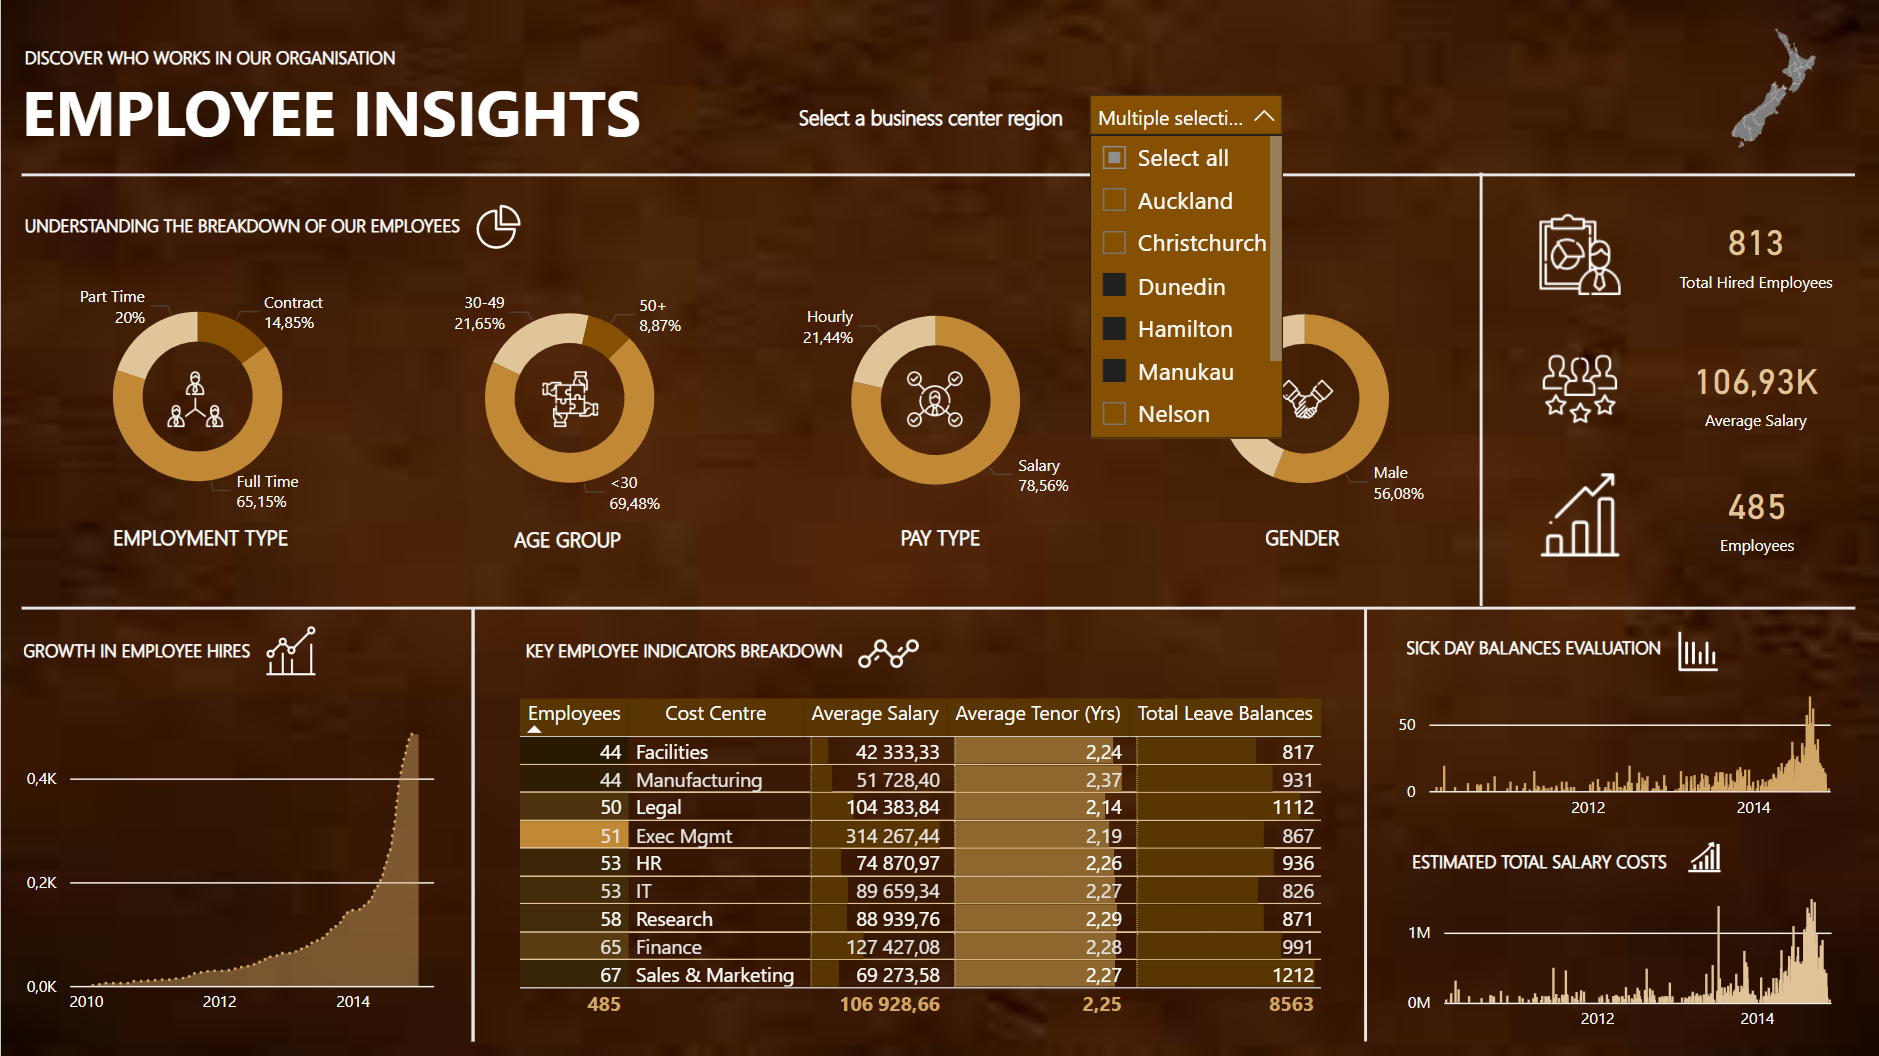

The page's visual inventory and layout, read from the dashboard file:
{"tool":"powerbi","page":{"name":"Dashboard","canvas":[1280,720],"ordinal":0},"visuals":[{"type":"donutChart","fields":{"Y":["Key Measures.Employees"],"Category":["Employee_Data.Gender"]},"box":[784,184,208,176],"z":0},{"type":"donutChart","fields":{"Y":["Key Measures.Employees"],"Category":["Employee_Data.PayType"]},"box":[532.8,184.8,208,176],"z":1000},{"type":"donutChart","fields":{"Y":["Key Measures.Employees"],"Category":["Employee_Data.AgeGroup"]},"box":[284.9,182.4,203.8,179.2],"z":2000},{"type":"donutChart","fields":{"Y":["Key Measures.Employees"],"Series":["Employee_Data.Work Type"]},"box":[31.5,180.8,203.8,179.2],"z":3000},{"type":"textbox","box":[9.1,41.4,446.5,70.7],"z":4000},{"type":"slicer","fields":{"Values":["Employee_Data.Business Unit"]},"box":[732.1,55.3,151.1,48.4],"z":5000},{"type":"card","fields":{"Values":["Key Measures.Total Hired Employees"]},"box":[1135.5,133.6,120,76.4],"z":6000},{"type":"card","fields":{"Values":["Key Measures.Average Salary"]},"box":[1125.5,226.4,140,79.1],"z":7000},{"type":"card","fields":{"Values":["Key Measures.Employees"]},"box":[1140.9,318.2,109.1,67.3],"z":8000},{"type":"textbox","box":[11.6,24.2,305.3,33.2],"z":9000},{"type":"textbox","box":[538.9,65.8,202.1,37.9],"z":10000},{"type":"areaChart","fields":{"Category":["Dates.Date"],"Y":["Key Measures.Employees"]},"box":[12.1,481.3,289,218.7],"z":11000},{"type":"tableEx","fields":{"Values":["Key Measures.Employees","Employee_Data.Cost Centre","Key Measures.Average Salary","Key Measures.Average Tenor (Yrs)","Key Measures.Total Leave Balances"]},"box":[347.4,471.1,572.2,229.9],"z":12000},{"type":"columnChart","fields":{"Category":["Dates.Date"],"Y":["Key Measures.Total Sick Days"]},"box":[946.4,452.7,316.4,114.5],"z":13000},{"type":"columnChart","fields":{"Category":["Dates.Date"],"Y":["Key Measures.Total Salary Cost"]},"box":[952.7,598.2,310.9,113.6],"z":14000},{"type":"textbox","box":[11.3,139.2,351.5,33],"z":15000},{"type":"textbox","box":[72,352,144,32],"z":16000},{"type":"textbox","box":[344,352,111.6,32.2],"z":17000},{"type":"textbox","box":[608,352,80,32],"z":18000},{"type":"textbox","box":[856,352,72,32],"z":19000},{"type":"image","box":[163.7,422,68.1,44],"z":20000},{"type":"basicShape","box":[4.1,405.2,1269.1,18.6],"z":21000},{"type":"image","box":[1142.9,8.8,119.8,96.7],"z":22000},{"type":"image","box":[308.8,135.2,60.4,40.7],"z":23000},{"type":"image","box":[96,248,72,48],"z":24000},{"type":"image","box":[352,248,72,48],"z":25000},{"type":"image","box":[600,248,72,48],"z":26000},{"type":"image","box":[856,248,64,48],"z":27000},{"type":"basicShape","box":[4.4,110,1268.9,18.9],"z":28000},{"type":"basicShape","box":[987.2,108.8,42.4,315.2],"z":29000},{"type":"image","box":[1030.3,140.7,90.9,65.5],"z":30000},{"type":"image","box":[1032.1,318,87.3,67.3],"z":31000},{"type":"image","box":[1042.1,235.2,66.4,60.9],"z":32000},{"type":"textbox","box":[9.8,428.5,208.1,35.8],"z":33000},{"type":"textbox","box":[352,428.5,295.9,35.8],"z":34000},{"type":"image","box":[560.4,419.8,89,51.6],"z":35000},{"type":"basicShape","box":[304.9,404.9,34.1,315.4],"z":36000},{"type":"basicShape","box":[304.9,404.6,34.1,315.4],"z":37000},{"type":"basicShape","box":[912.2,404.9,34.1,315.4],"z":38000},{"type":"textbox","box":[956.2,571.9,239.1,35.9],"z":39000},{"type":"image","box":[1128,568,64,32],"z":40000},{"type":"textbox","box":[952.8,426,242.3,36.6],"z":41000},{"type":"image","box":[1120,424,72,40],"z":42000}]}

Visuals, with their boxes in screenshot pixels (x1, y1, x2, y2), scaled from the page's 1280x720 canvas onto the 1879x1056 screenshot:
donutChart - Key Measures.Employees x Employee_Data.Gender: [x1=1151, y1=270, x2=1456, y2=528]
donutChart - Key Measures.Employees x Employee_Data.PayType: [x1=782, y1=271, x2=1087, y2=529]
donutChart - Key Measures.Employees x Employee_Data.AgeGroup: [x1=418, y1=268, x2=717, y2=530]
donutChart - Key Measures.Employees x Employee_Data.Work Type: [x1=46, y1=265, x2=345, y2=528]
textbox: [x1=13, y1=61, x2=669, y2=164]
slicer - Employee_Data.Business Unit: [x1=1075, y1=81, x2=1297, y2=152]
card - Key Measures.Total Hired Employees: [x1=1667, y1=196, x2=1843, y2=308]
card - Key Measures.Average Salary: [x1=1652, y1=332, x2=1858, y2=448]
card - Key Measures.Employees: [x1=1675, y1=467, x2=1835, y2=565]
textbox: [x1=17, y1=35, x2=465, y2=84]
textbox: [x1=791, y1=97, x2=1088, y2=152]
areaChart - Dates.Date x Key Measures.Employees: [x1=18, y1=706, x2=442, y2=1027]
tableEx - Key Measures.Employees x Employee_Data.Cost Centre: [x1=510, y1=691, x2=1350, y2=1028]
columnChart - Dates.Date x Key Measures.Total Sick Days: [x1=1389, y1=664, x2=1854, y2=832]
columnChart - Dates.Date x Key Measures.Total Salary Cost: [x1=1399, y1=877, x2=1855, y2=1044]
textbox: [x1=17, y1=204, x2=533, y2=253]
textbox: [x1=106, y1=516, x2=317, y2=563]
textbox: [x1=505, y1=516, x2=669, y2=563]
textbox: [x1=893, y1=516, x2=1010, y2=563]
textbox: [x1=1257, y1=516, x2=1362, y2=563]
image: [x1=240, y1=619, x2=340, y2=683]
basicShape: [x1=6, y1=594, x2=1869, y2=622]
image: [x1=1678, y1=13, x2=1854, y2=155]
image: [x1=453, y1=198, x2=542, y2=258]
image: [x1=141, y1=364, x2=247, y2=434]
image: [x1=517, y1=364, x2=622, y2=434]
image: [x1=881, y1=364, x2=986, y2=434]
image: [x1=1257, y1=364, x2=1351, y2=434]
basicShape: [x1=6, y1=161, x2=1869, y2=189]
basicShape: [x1=1449, y1=160, x2=1511, y2=622]
image: [x1=1512, y1=206, x2=1646, y2=302]
image: [x1=1515, y1=466, x2=1643, y2=565]
image: [x1=1530, y1=345, x2=1627, y2=434]
textbox: [x1=14, y1=628, x2=320, y2=681]
textbox: [x1=517, y1=628, x2=951, y2=681]
image: [x1=823, y1=616, x2=953, y2=691]
basicShape: [x1=448, y1=594, x2=498, y2=1055]
basicShape: [x1=448, y1=593, x2=498, y2=1055]
basicShape: [x1=1339, y1=594, x2=1389, y2=1055]
textbox: [x1=1404, y1=839, x2=1755, y2=891]
image: [x1=1656, y1=833, x2=1750, y2=880]
textbox: [x1=1399, y1=625, x2=1754, y2=678]
image: [x1=1644, y1=622, x2=1750, y2=681]
